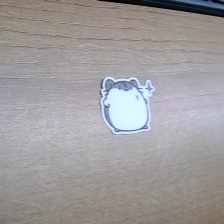mouse: (98, 76, 158, 135)
